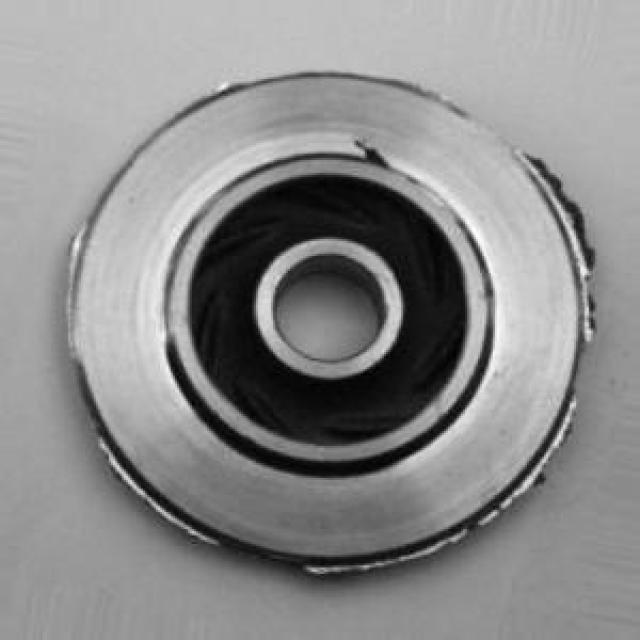Defect: (348, 130, 400, 182)
